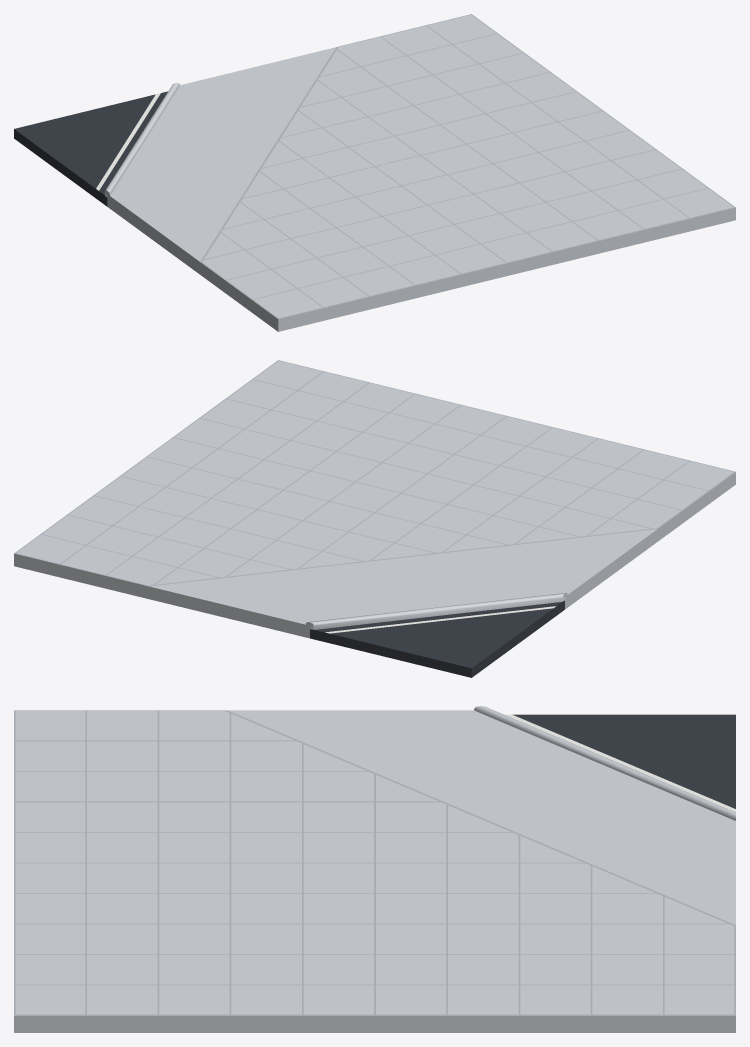
Rendered from rua_diagonal_enchimento.glb.
3 renders of one model, top to bottom at view 1: azimuth 30°, elevation 25°; view 2: azimuth 150°, elevation 25°; view 3: azimuth 270°, elevation 25°, orthographic. The views are drawn at different scales.
Visible parts, largest first — view 1: rua_diagonal_enchimento; view 2: rua_diagonal_enchimento; view 3: rua_diagonal_enchimento.
Part boxes in pixels (bbox=[...]): rua_diagonal_enchimento: bbox=[14, 14, 735, 331]; rua_diagonal_enchimento: bbox=[14, 360, 735, 677]; rua_diagonal_enchimento: bbox=[14, 706, 735, 1032].
Size of the model in its own units: 15 by 0.5 by 15.
Materials: 1 (1 with a texture image).
